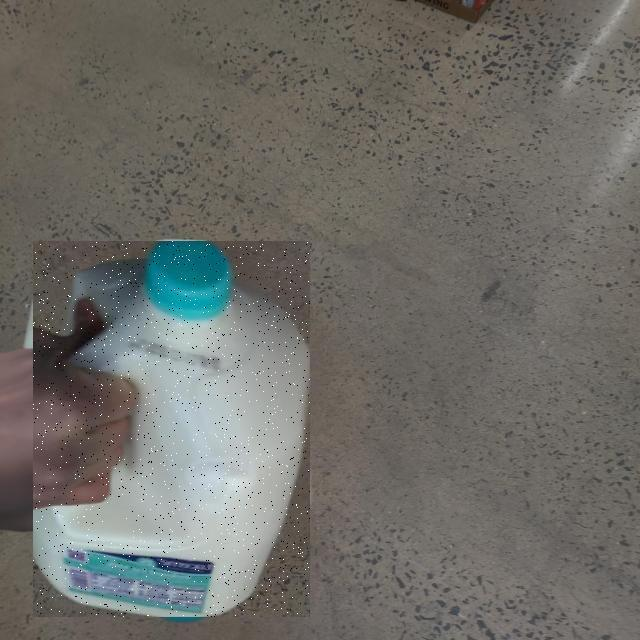Milk: (33, 241, 310, 617)
